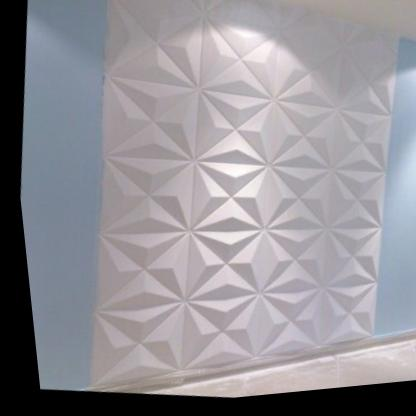Futech tiles: (145, 13, 382, 351)
